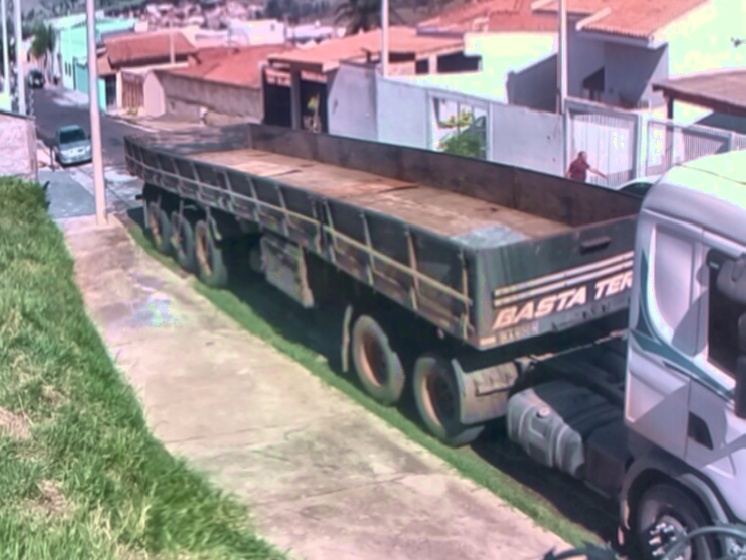person: (561, 149, 607, 186)
